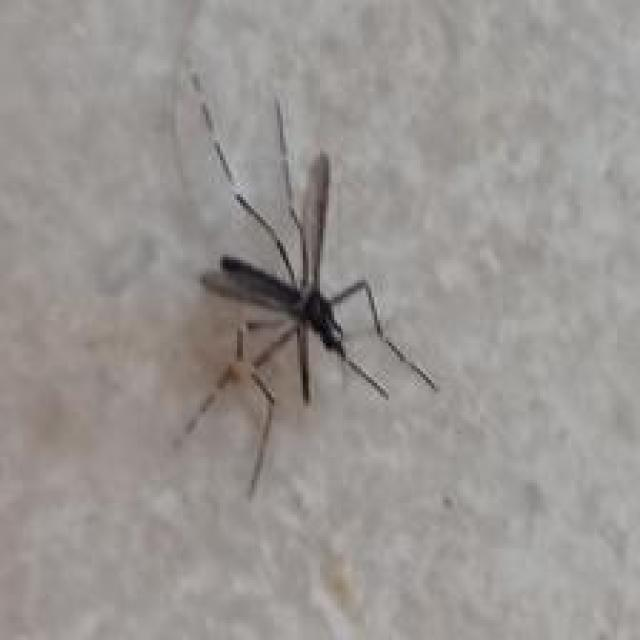Aedes albopictus: (167, 54, 439, 500)
